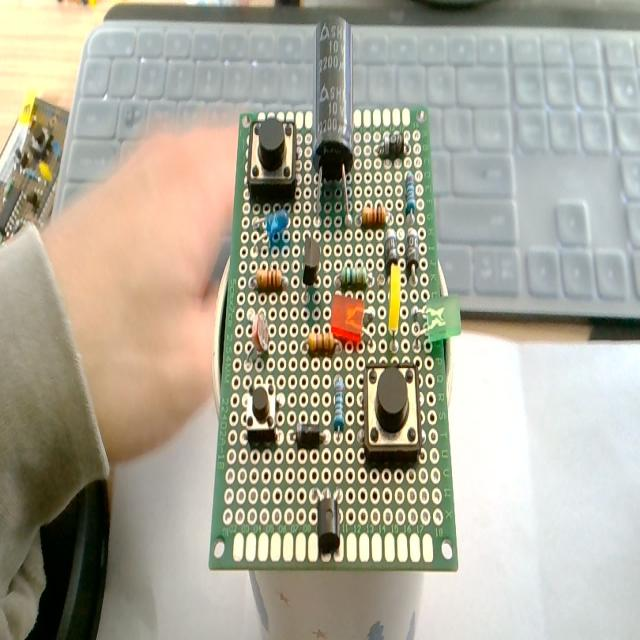Electrolytic capacitor: (312, 20, 355, 226)
cds: (248, 310, 272, 361)
diode: (295, 422, 325, 448), (377, 133, 404, 159), (405, 227, 419, 273), (384, 227, 398, 269)
led: (424, 295, 464, 343), (330, 292, 364, 344), (387, 263, 403, 357), (265, 208, 289, 248)
resistor: (256, 267, 282, 292), (334, 375, 345, 433), (340, 265, 366, 289), (308, 332, 333, 354), (362, 205, 385, 227), (405, 171, 416, 214)
switch: (363, 362, 422, 459), (248, 119, 296, 198), (245, 378, 278, 442)
transistor: (308, 485, 344, 556), (302, 236, 321, 284)
